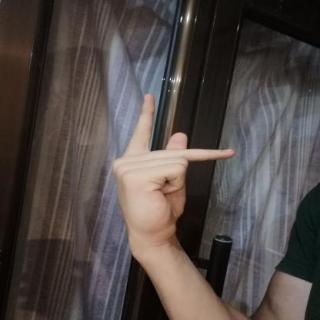DHAA: (102, 88, 244, 252)
